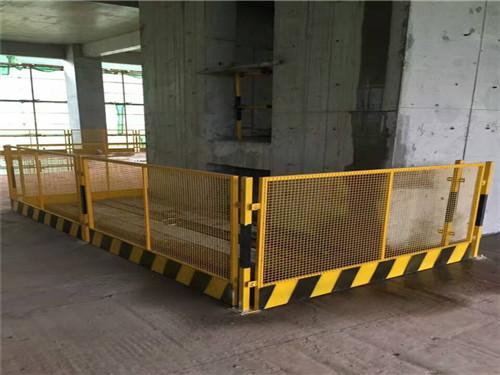sign: (5, 140, 244, 305), (244, 161, 495, 299)
